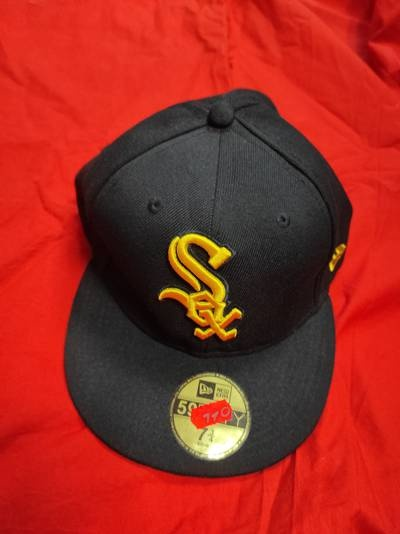Hat: (35, 74, 365, 476)
